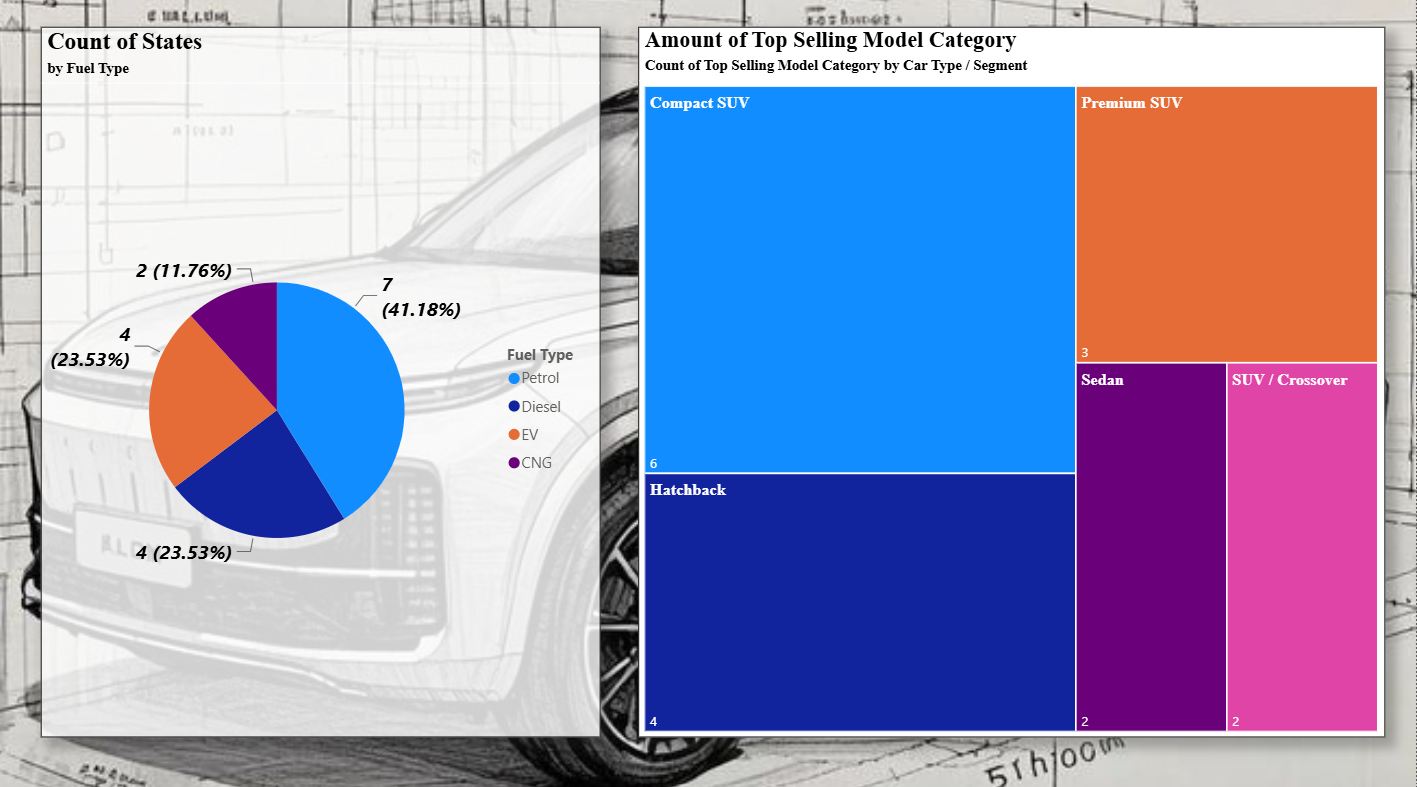

Layout of this report page (visuals, bound fields, positions):
{"tool":"powerbi","page":{"name":"Page 2","canvas":[1280,720],"ordinal":1},"visuals":[{"type":"pieChart","fields":{"Category":["India Car Preferences 2025.Fuel Type"],"Y":["India Car Preferences 2025.number of manufacturing company"]},"box":[39.5,30.2,504.7,640.7],"z":0},{"type":"treemap","title":"Distribution of Car Segments.","fields":{"Group":["India Car Preferences 2025.Car Type / Segment"],"Values":["CountNonNull(India Car Preferences 2025.Top Selling Model Category)"]},"box":[577.9,30.2,673.3,640.7],"z":1000}]}

Visuals, with their boxes in screenshot pixels (x1, y1, x2, y2), scaled from the page's 1280x720 canvas onto the 1417x787 screenshot:
pieChart - India Car Preferences 2025.Fuel Type x India Car Preferences 2025.number of manufacturing company: box=[44, 33, 602, 733]
"Distribution of Car Segments." treemap: box=[640, 33, 1385, 733]
